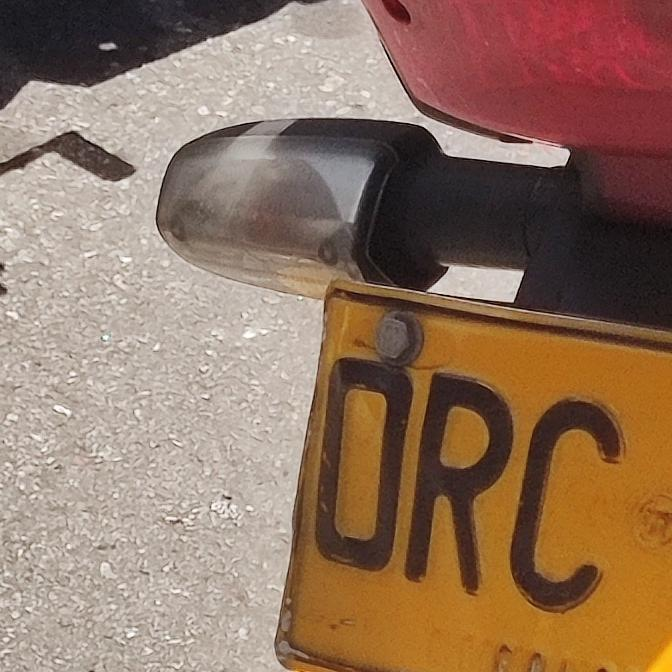plates: (253, 263, 672, 672)
